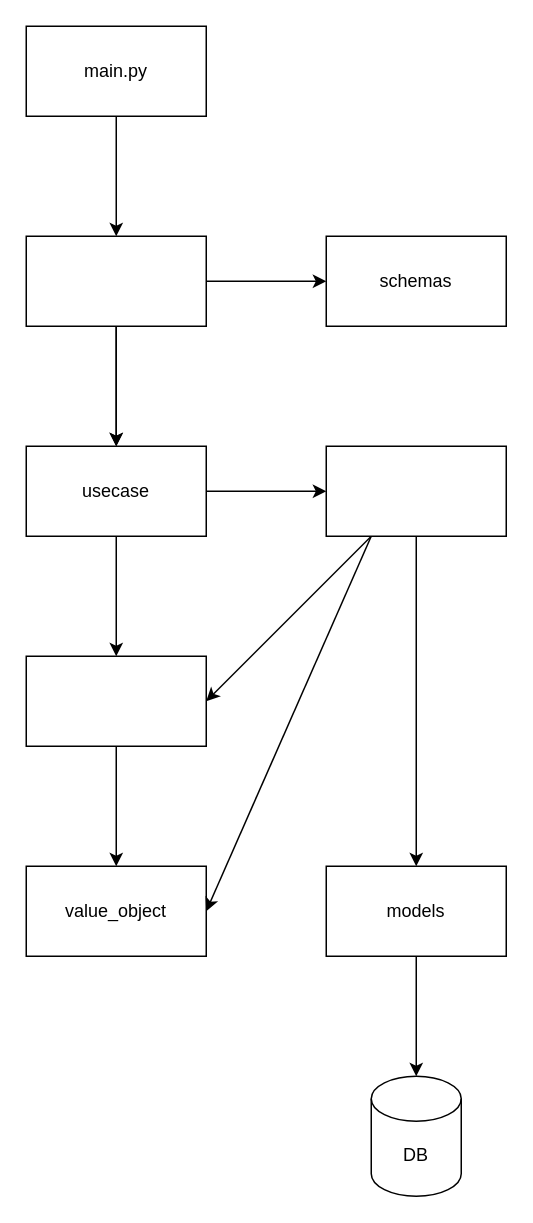
This 533x1223 diagram has some shape labels left out. Here are the shapes that lost their labels. From the top down, the box of each, then its label:
(25, 235, 206, 326): routers
(325, 445, 506, 536): repository
(25, 655, 206, 746): entity
